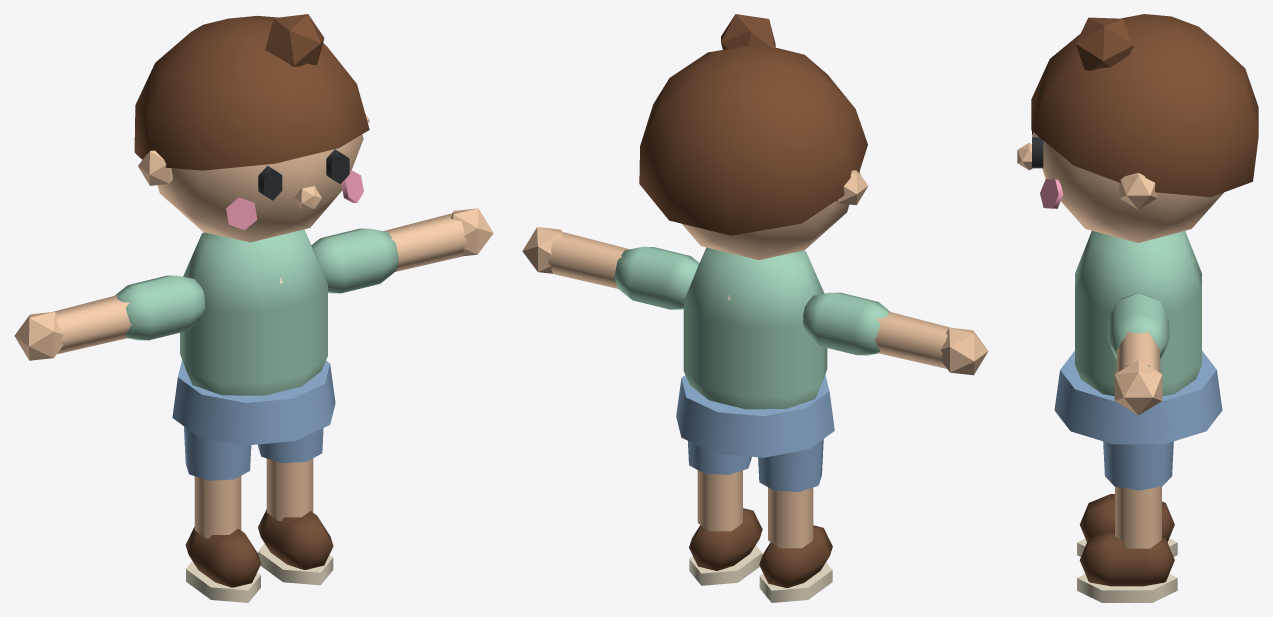
The model's file is villager.glb.
3 renders of one model, left to right at view 1: azimuth 30°, elevation 25°; view 2: azimuth 150°, elevation 25°; view 3: azimuth 270°, elevation 25°, orthographic. The views are drawn at different scales.
Parts seen in each view (by area): view 1: hair, torso, head, shorts_hip, sleeve_left, sleeve_right, shoe_left, shoe_right, arm_right, arm_left, leg_right, leg_left (+11 smaller); view 2: hair, torso, shorts_hip, sleeve_left, sleeve_right, head, arm_right, arm_left, shoe_left, shoe_right, leg_right, leg_left (+8 smaller); view 3: hair, torso, shorts_hip, head, shoe_right, shorts_leg_right, leg_right, sleeve_right, hair_tuft, hand_right, sole_right, shoe_left (+5 smaller).
Part boxes in pixels (bbox=[...]): hair: bbox=[134, 15, 369, 170]; torso: bbox=[180, 229, 327, 395]; head: bbox=[157, 134, 363, 242]; shorts_hip: bbox=[172, 360, 335, 445]; sleeve_left: bbox=[115, 275, 205, 340]; sleeve_right: bbox=[311, 228, 398, 293]; shoe_left: bbox=[185, 527, 261, 587]; shoe_right: bbox=[258, 509, 333, 569]; arm_right: bbox=[383, 213, 467, 271]; arm_left: bbox=[53, 295, 131, 354]; leg_right: bbox=[266, 458, 313, 520]; leg_left: bbox=[194, 476, 241, 538]; hair: bbox=[639, 46, 867, 235]; torso: bbox=[683, 247, 827, 409]; shorts_hip: bbox=[676, 375, 834, 457]; sleeve_left: bbox=[803, 292, 890, 355]; sleeve_right: bbox=[614, 246, 699, 309]; head: bbox=[682, 201, 849, 259]; arm_right: bbox=[548, 232, 629, 288]; arm_left: bbox=[874, 311, 950, 368]; shoe_left: bbox=[759, 525, 832, 587]; shoe_right: bbox=[689, 508, 762, 570]; leg_right: bbox=[697, 470, 742, 531]; leg_left: bbox=[768, 487, 813, 548]; hair: bbox=[1031, 14, 1258, 197]; torso: bbox=[1075, 231, 1201, 395]; shorts_hip: bbox=[1054, 351, 1222, 444]; head: bbox=[1032, 132, 1223, 242]; shoe_right: bbox=[1079, 529, 1174, 586]; shorts_leg_right: bbox=[1103, 441, 1173, 490]; leg_right: bbox=[1115, 486, 1161, 548]; sleeve_right: bbox=[1107, 292, 1169, 365]; hair_tuft: bbox=[1076, 17, 1132, 70]; hand_right: bbox=[1114, 360, 1162, 415]; sole_right: bbox=[1077, 574, 1177, 602]; shoe_left: bbox=[1079, 494, 1174, 541].
Bounding box in the file's own units: 0.9651 × 1.11 × 0.4307.
